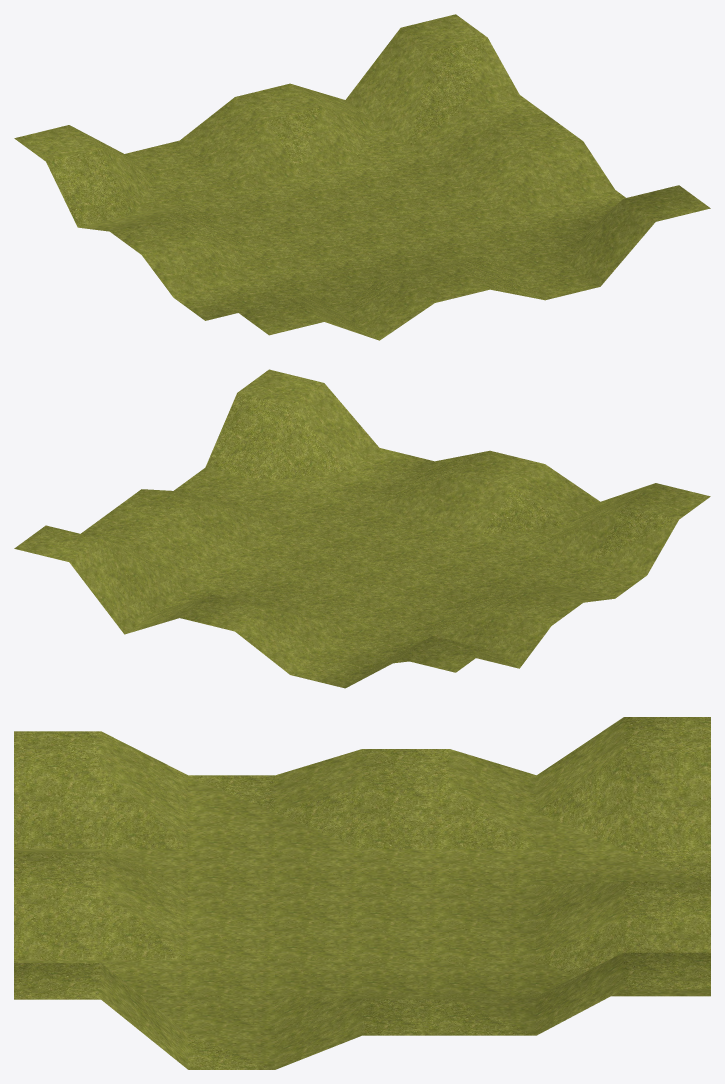
The model's file is map9.obj.
3 renders of one model, top to bottom at view 1: azimuth 30°, elevation 25°; view 2: azimuth 150°, elevation 25°; view 3: azimuth 270°, elevation 25°, orthographic. The views are drawn at different scales.
Parts seen in each view (by area): view 1: Plane.004_Plane.005; view 2: Plane.004_Plane.005; view 3: Plane.004_Plane.005.
Boxes of the visible parts, box(x1,y1,x2,y2) form: Plane.004_Plane.005: box(14, 14, 710, 340); Plane.004_Plane.005: box(14, 369, 710, 688); Plane.004_Plane.005: box(14, 717, 710, 1069).
Size of the model in its own units: 32.33 by 4.12 by 32.33.
Materials: 1 (1 with a texture image).
